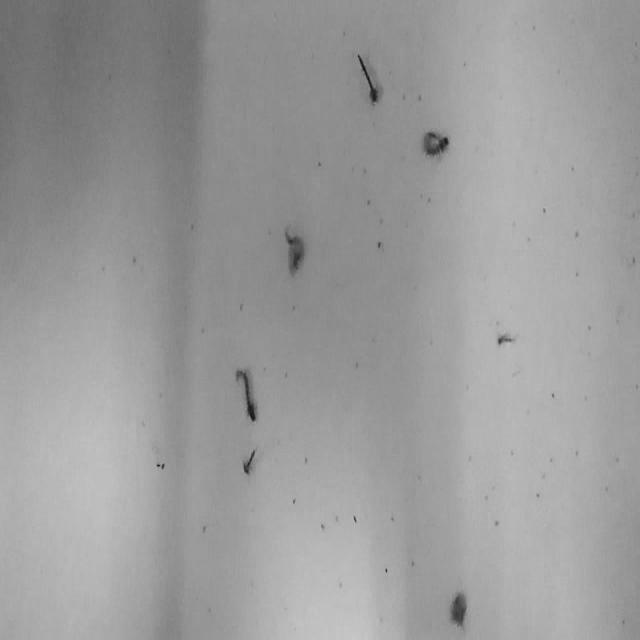larvas: (357, 52, 379, 102), (235, 368, 255, 421), (284, 228, 305, 274), (422, 130, 450, 154), (449, 590, 467, 625), (243, 447, 254, 474), (498, 334, 516, 344)
